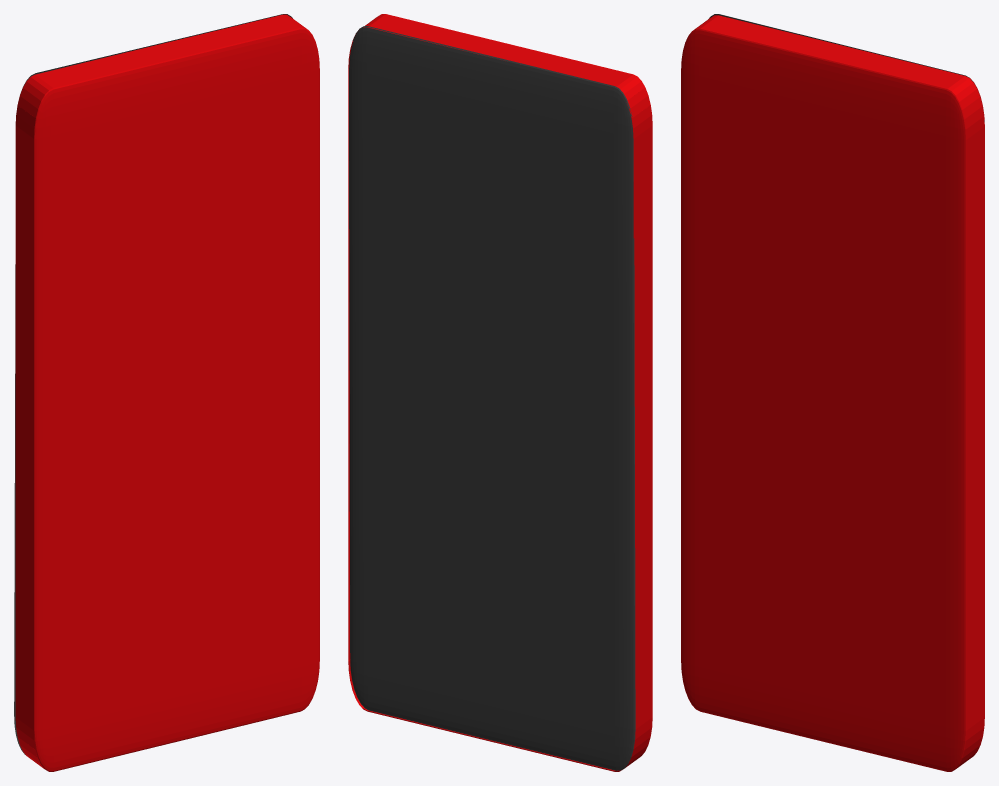
Rendered from phoneRed.fbx.
The picture shows the model from 3 angles, left to right: view 1: azimuth 30°, elevation 25°; view 2: azimuth 150°, elevation 25°; view 3: azimuth 330°, elevation 25°; orthographic projection.
Visible parts, largest first — view 1: Куб, Куб.001; view 2: Куб.001, Куб; view 3: Куб.
Boxes of the visible parts, x1=… form: Куб: x1=15, y1=14, x2=319, y2=771; Куб.001: x1=14, y1=14, x2=292, y2=754; Куб.001: x1=349, y1=26, x2=635, y2=770; Куб: x1=348, y1=14, x2=652, y2=771; Куб: x1=681, y1=15, x2=984, y2=771.
Size of the model in its own units: 7.04 by 16.04 by 0.9036.
